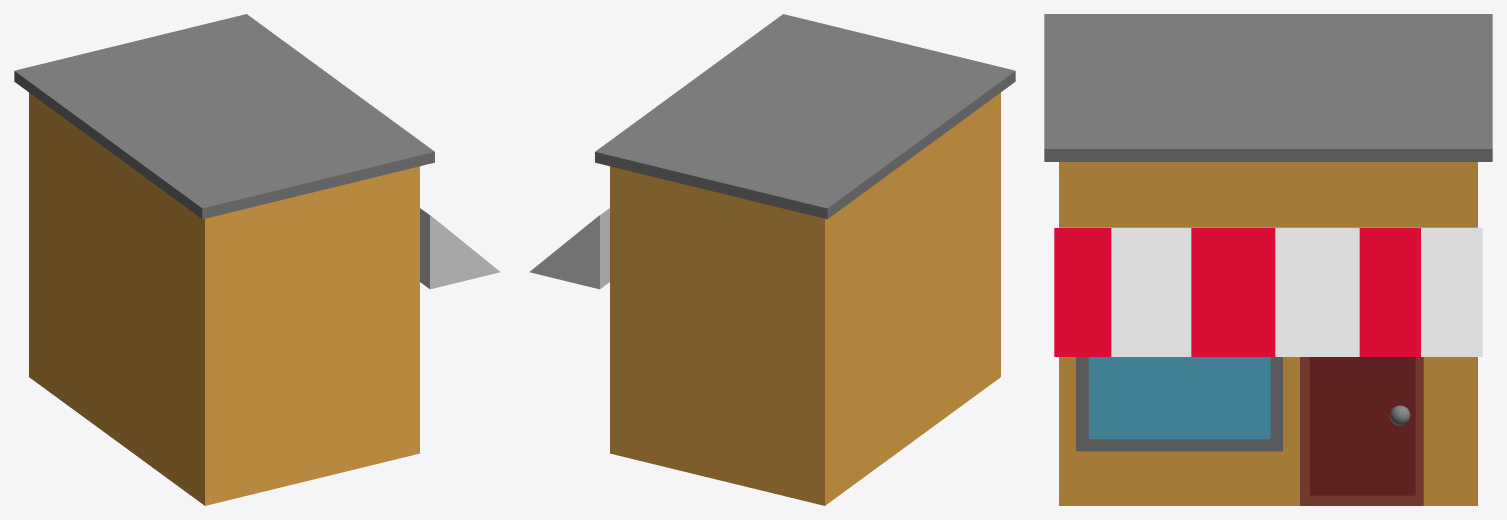
Rendered from CartoonStorefront1.fbx.
The picture shows the model from 3 angles, left to right: view 1: azimuth 30°, elevation 25°; view 2: azimuth 150°, elevation 25°; view 3: azimuth 270°, elevation 25°; orthographic projection. The views are drawn at different scales.
Visible parts, largest first — view 1: Building, Roof, Canopy; view 2: Building, Roof, Canopy; view 3: Roof, Building, InnerWindow, InnerDoor, RedStripe2, WhiteStripe2, WhiteStripe1, RedStripe3, WhiteStripe3, RedStripe1, WindowFrame, DoorFrame.
Boxes of the visible parts, x1,y1,x2,y2 form: Building: [29, 92, 419, 505]; Roof: [14, 14, 434, 219]; Canopy: [420, 208, 500, 289]; Building: [610, 92, 1000, 505]; Roof: [595, 14, 1015, 219]; Canopy: [529, 208, 609, 289]; Roof: [1044, 14, 1492, 161]; Building: [1059, 162, 1477, 505]; InnerWindow: [1088, 357, 1270, 439]; InnerDoor: [1310, 357, 1415, 495]; RedStripe2: [1191, 228, 1275, 356]; WhiteStripe2: [1275, 228, 1359, 356]; WhiteStripe1: [1111, 228, 1191, 356]; RedStripe3: [1359, 228, 1420, 356]; WhiteStripe3: [1421, 228, 1482, 356]; RedStripe1: [1054, 228, 1111, 356]; WindowFrame: [1076, 357, 1282, 451]; DoorFrame: [1300, 357, 1423, 505].
Size of the model in its own units: 856 by 822 by 923.
